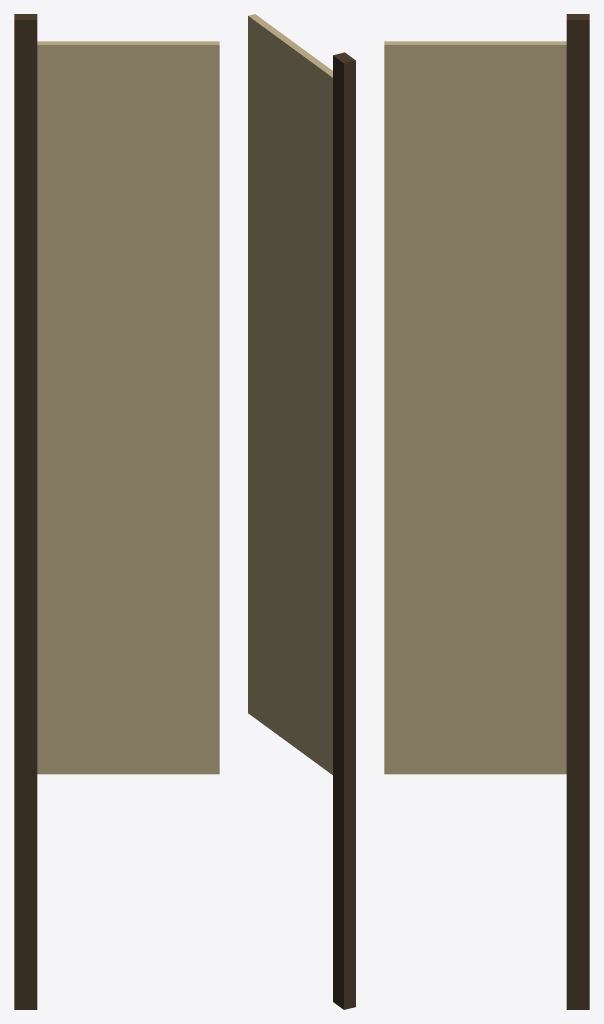
File: mark-sail.glb
The picture shows the model from 3 angles, left to right: view 1: azimuth 90°, elevation 25°; view 2: azimuth 210°, elevation 25°; view 3: azimuth 270°, elevation 25°; orthographic projection. The views are drawn at different scales.
Parts seen in each view (by area): view 1: 01_#c8b890, 00_#4a3a2a; view 2: 01_#c8b890, 00_#4a3a2a; view 3: 01_#c8b890, 00_#4a3a2a.
Boxes of the visible parts, x1,y1,x2,y2 form: 01_#c8b890: [37, 41, 219, 774]; 00_#4a3a2a: [14, 14, 37, 1009]; 01_#c8b890: [248, 14, 332, 774]; 00_#4a3a2a: [333, 52, 355, 1009]; 01_#c8b890: [384, 41, 566, 774]; 00_#4a3a2a: [566, 14, 589, 1009].
Bounding box in the file's own units: 0.1 × 7.6 × 1.43.
